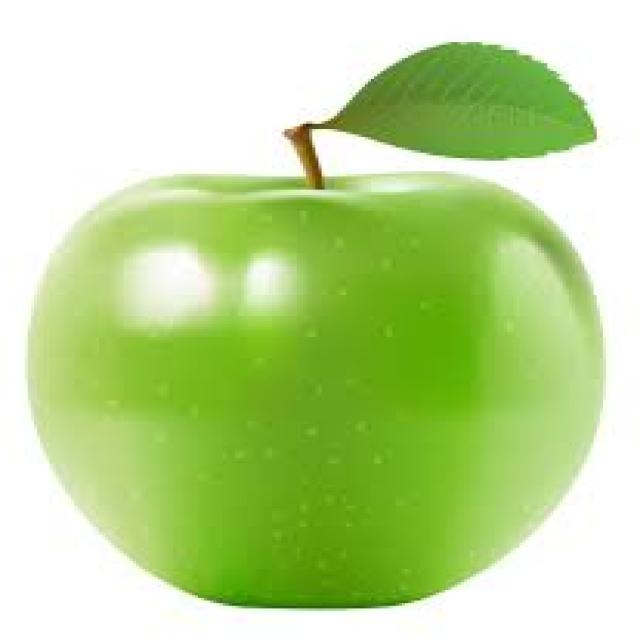apple: (15, 126, 640, 640)
